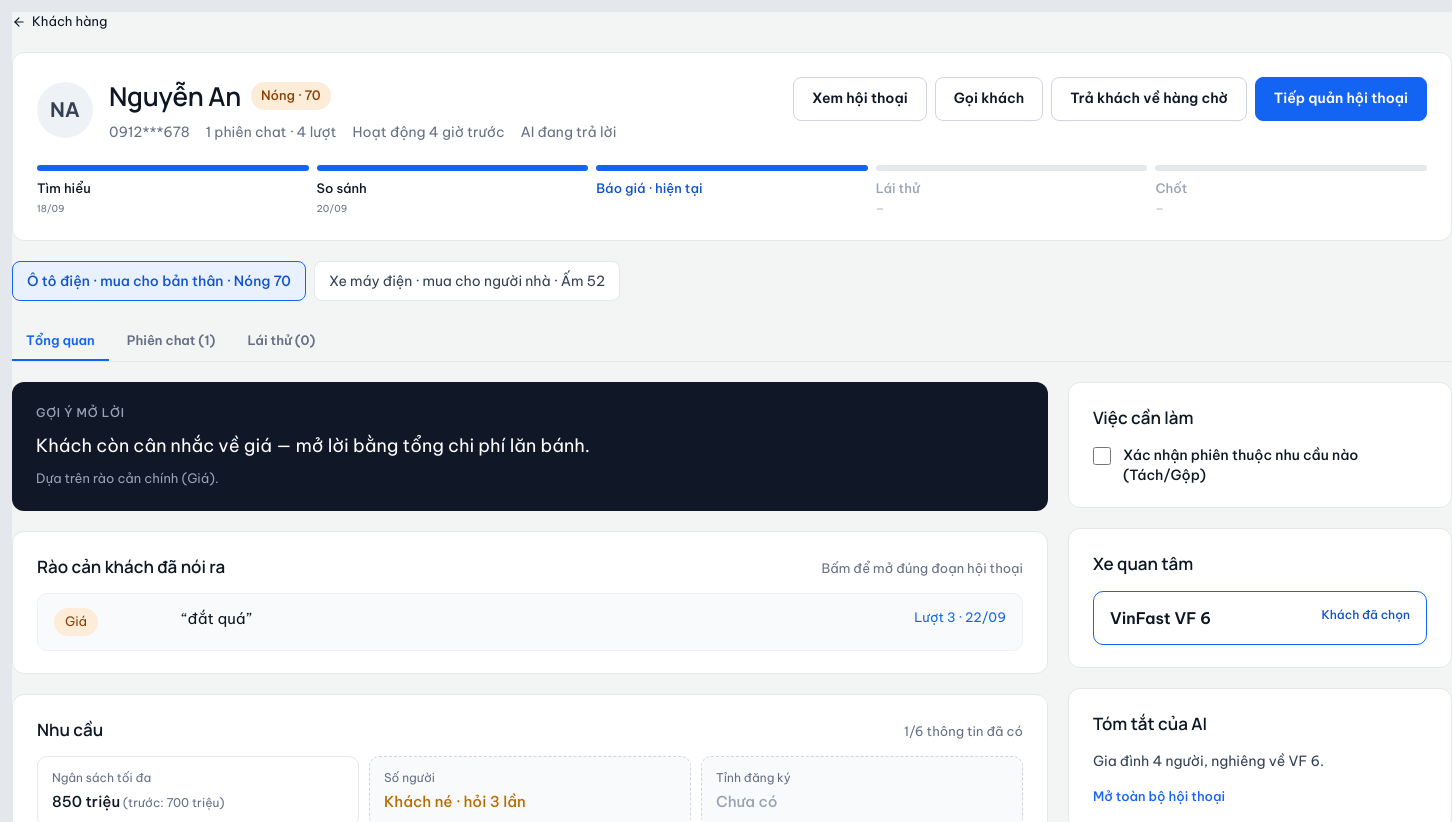
it: CustomerProfilePage › Nhiều nhu cầu: mặc định nhu cầu nóng nhất, bấm chọn thì khối bên dưới đổi theo
expect the text "mở lời bằng tổng chi phí" is shown: met, box [36,434,590,457]
Click the button "Xe máy điện · mua cho người nhà · Ấm 52": (467, 281) [314,261,620,301]
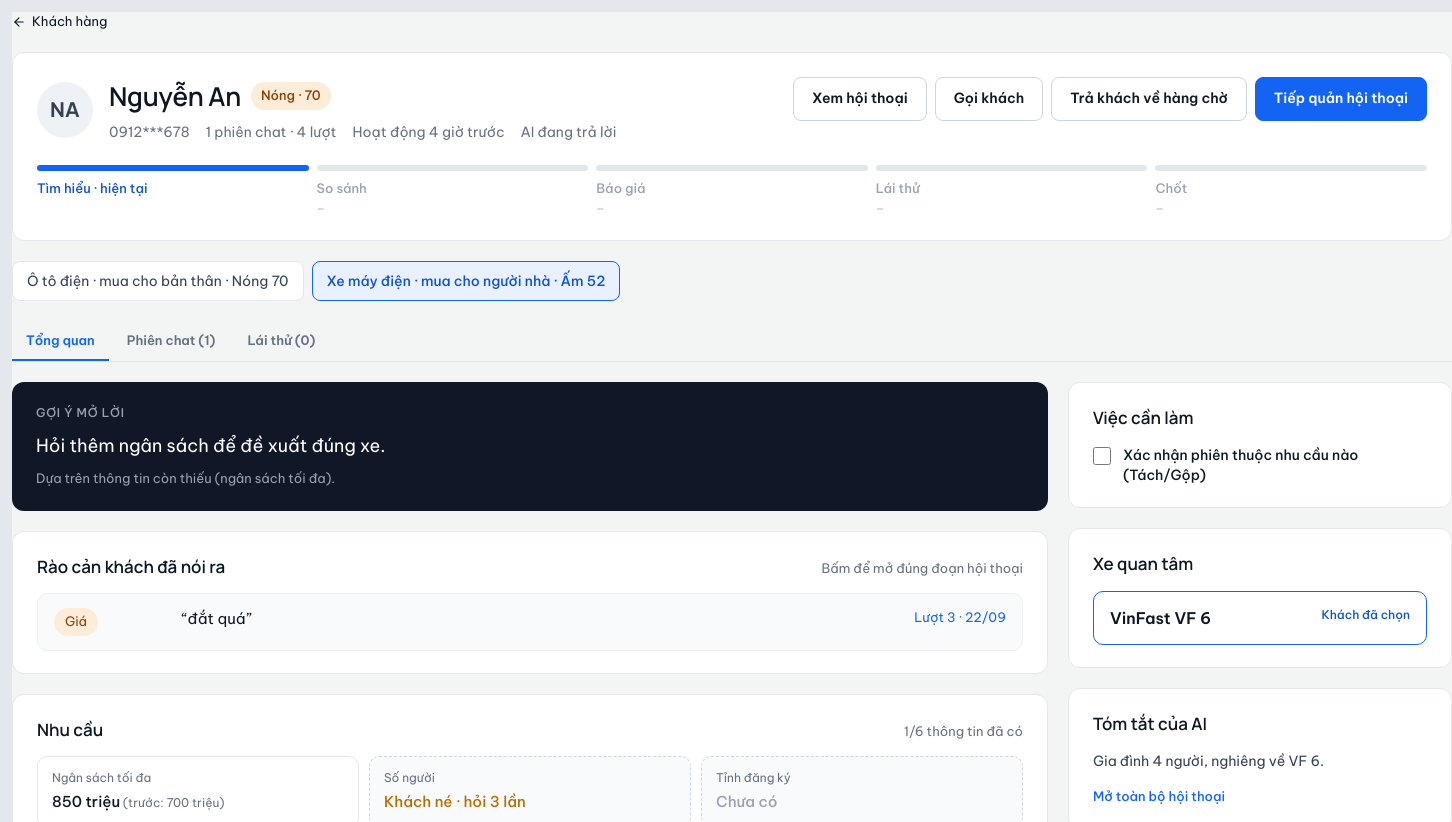
expect the text "Hỏi thêm ngân sách để đề xuất đúng xe." is shown: met, box [36,434,386,457]
expect the text "Tìm hiểu · hiện tại" is shown: met, box [37,180,148,196]
